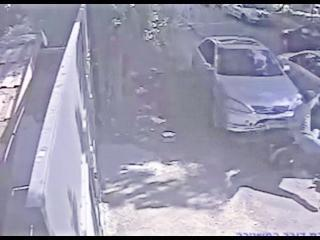Car: (192, 36, 304, 136)
Minor Accident: (189, 33, 320, 172)
Motor: (263, 120, 320, 170)
